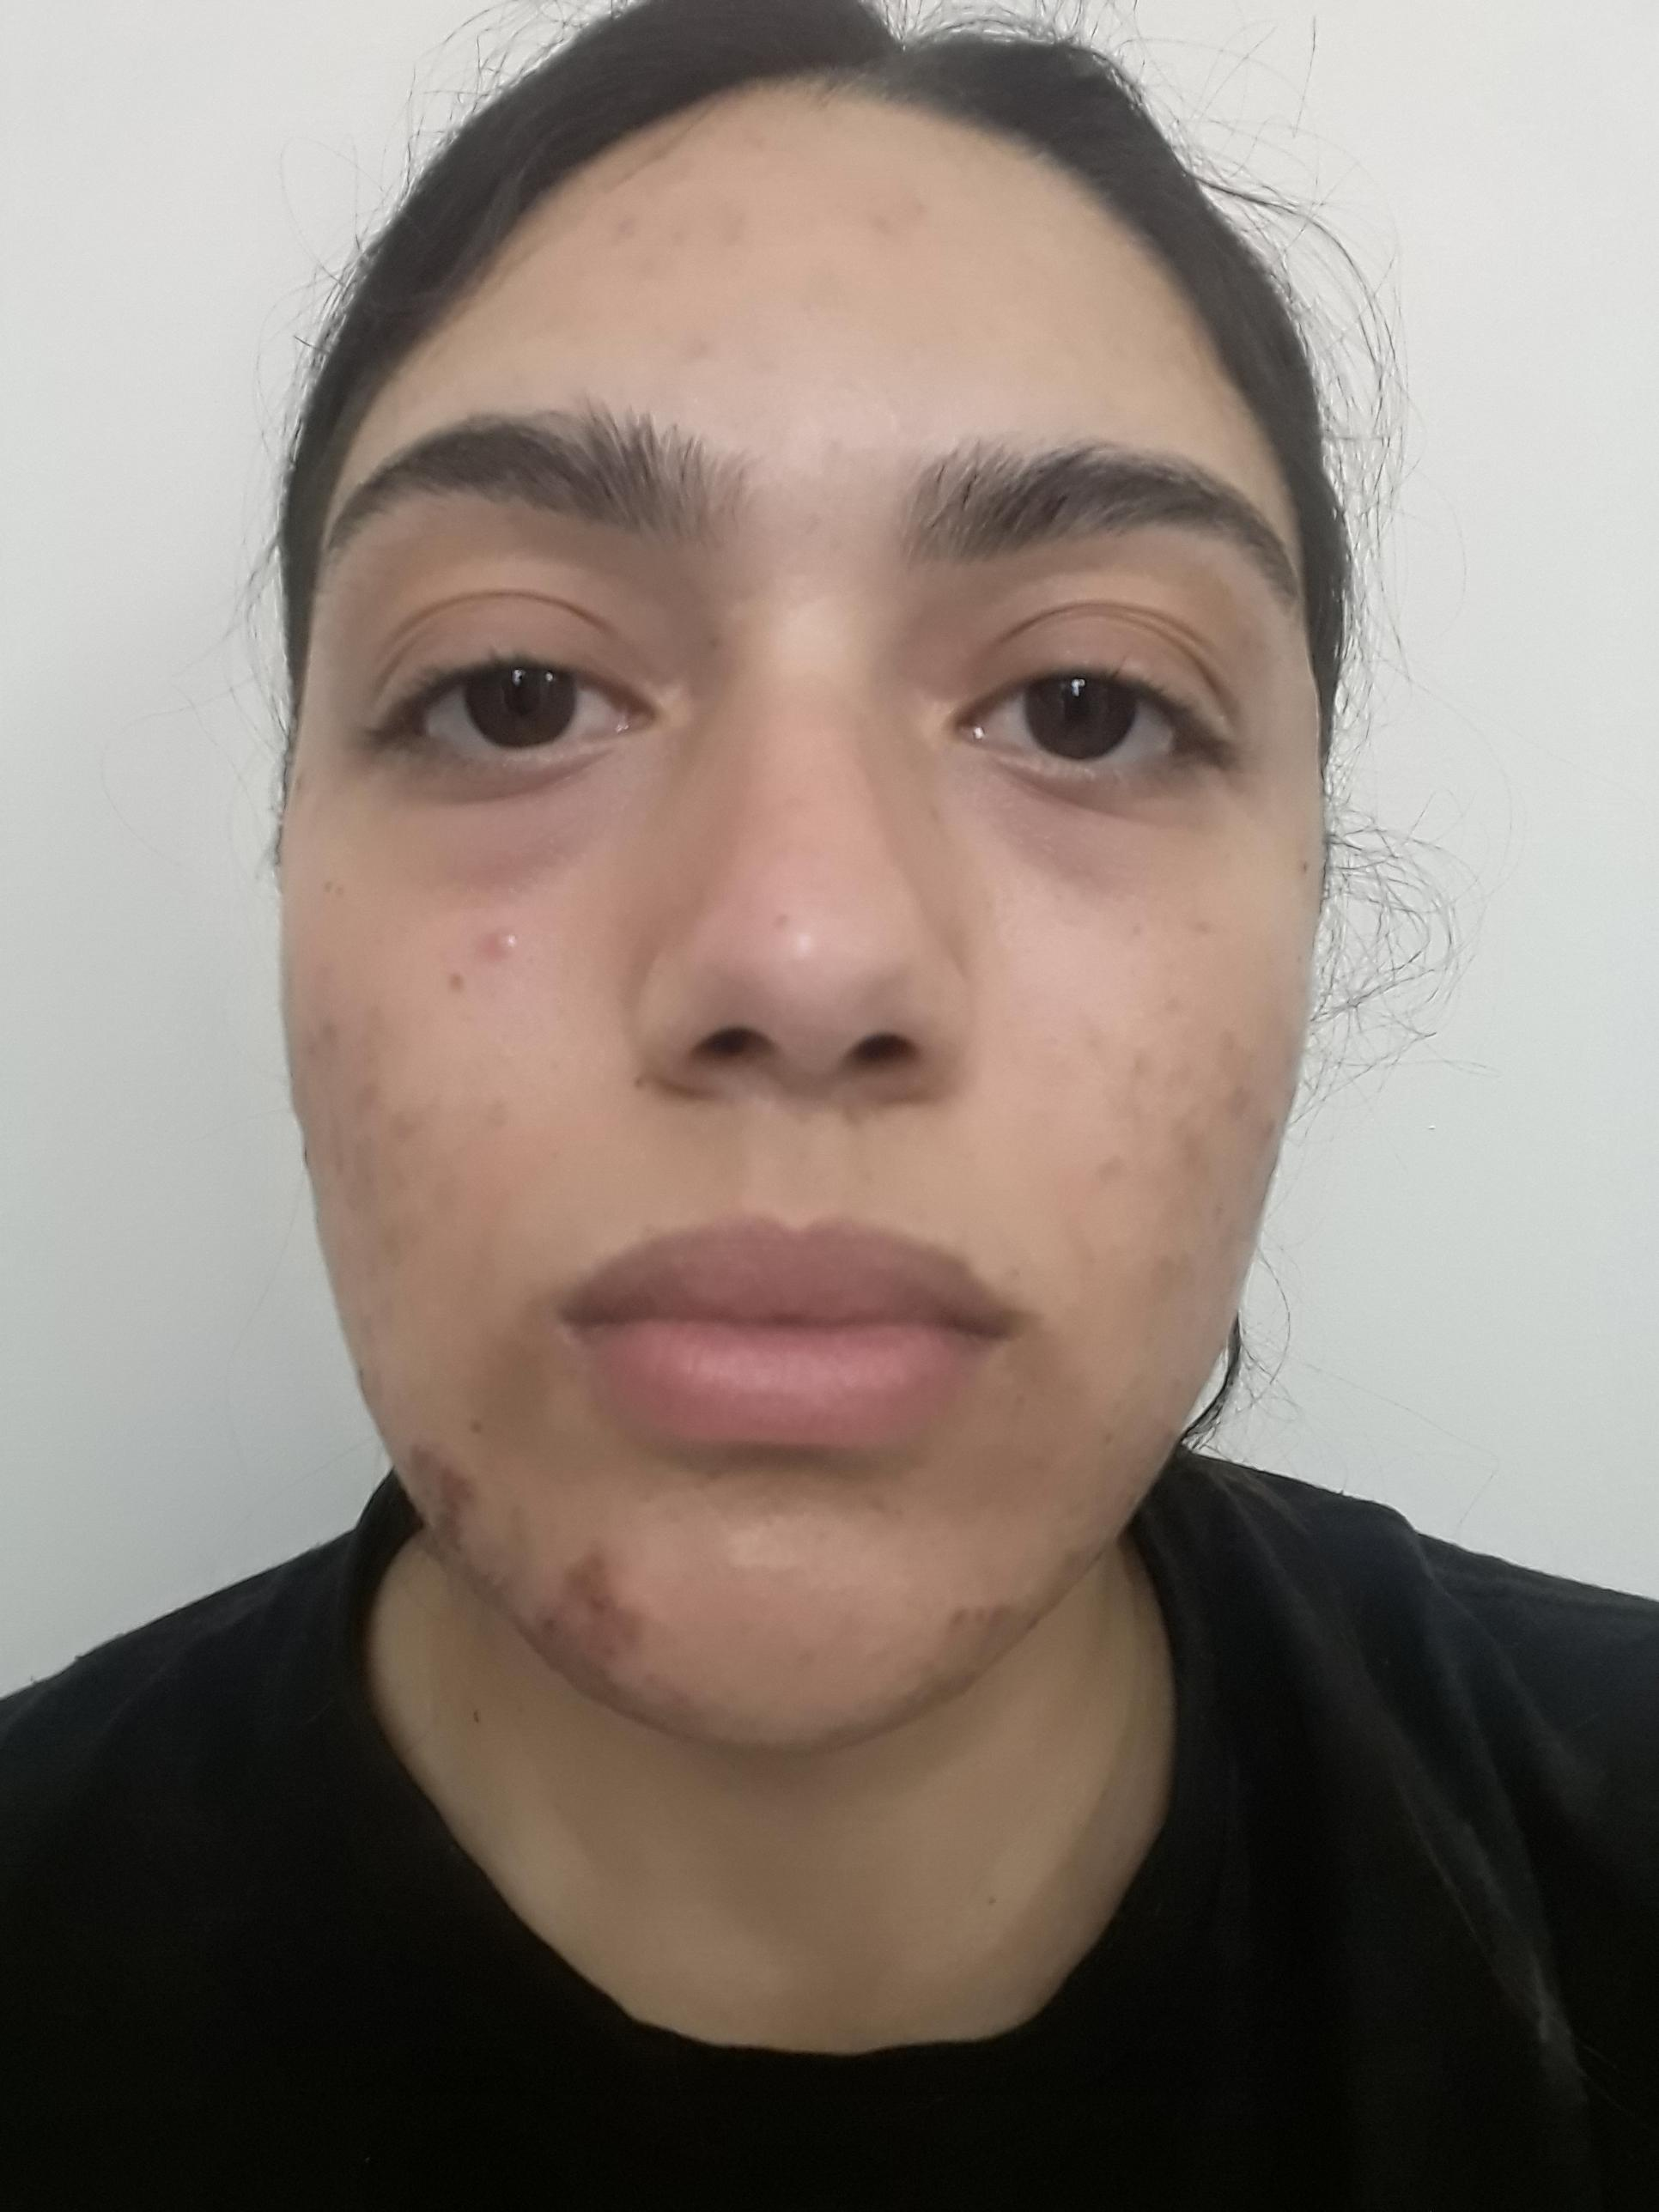Acne: (563, 1548, 655, 1655), (429, 1440, 490, 1543), (948, 1601, 1023, 1644), (1206, 1019, 1263, 1075), (1082, 1134, 1136, 1184), (1168, 1111, 1211, 1172), (364, 986, 418, 1035), (606, 200, 659, 249), (483, 921, 533, 968), (713, 211, 758, 258), (1047, 1536, 1091, 1585), (347, 1089, 396, 1129), (854, 204, 896, 247), (669, 327, 718, 364), (441, 963, 484, 1003), (533, 1611, 572, 1656), (1121, 1043, 1157, 1087), (1225, 1078, 1253, 1132), (896, 183, 932, 223), (385, 1106, 420, 1146), (1093, 1421, 1122, 1461), (481, 1096, 511, 1129), (737, 125, 770, 150), (315, 1015, 342, 1045)
